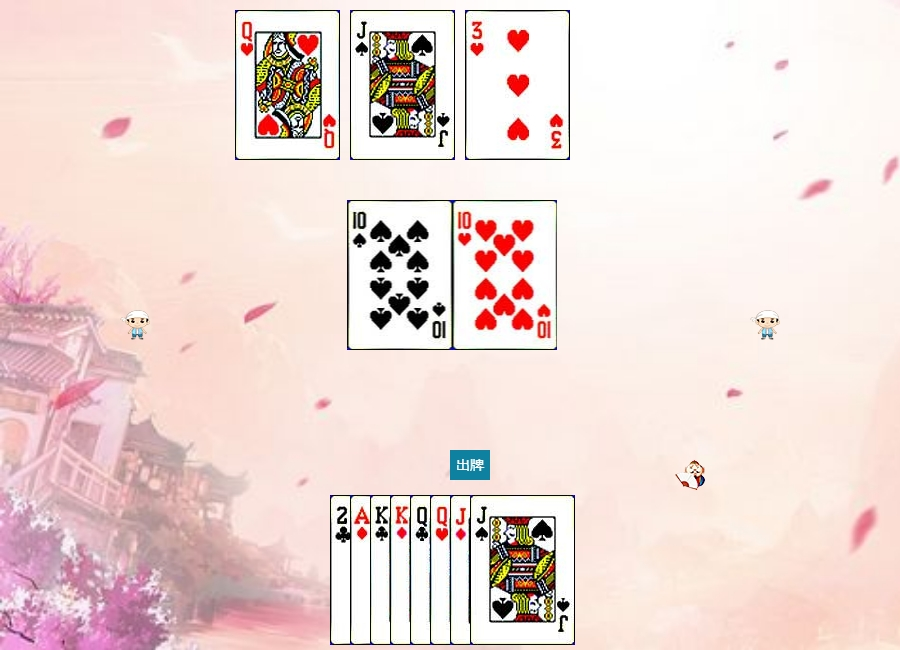10~3: (453, 200, 558, 350)
10~4: (348, 200, 453, 350)
11~1: (450, 495, 555, 645)
11~4: (350, 10, 455, 160), (470, 495, 575, 645)
12~2: (410, 495, 515, 645)
12~3: (235, 10, 340, 160), (430, 495, 535, 645)
13~1: (390, 495, 495, 645)
13~2: (370, 495, 475, 645)
14~1: (350, 495, 455, 645)
15~2: (330, 495, 435, 645)
3~3: (465, 10, 570, 160)
